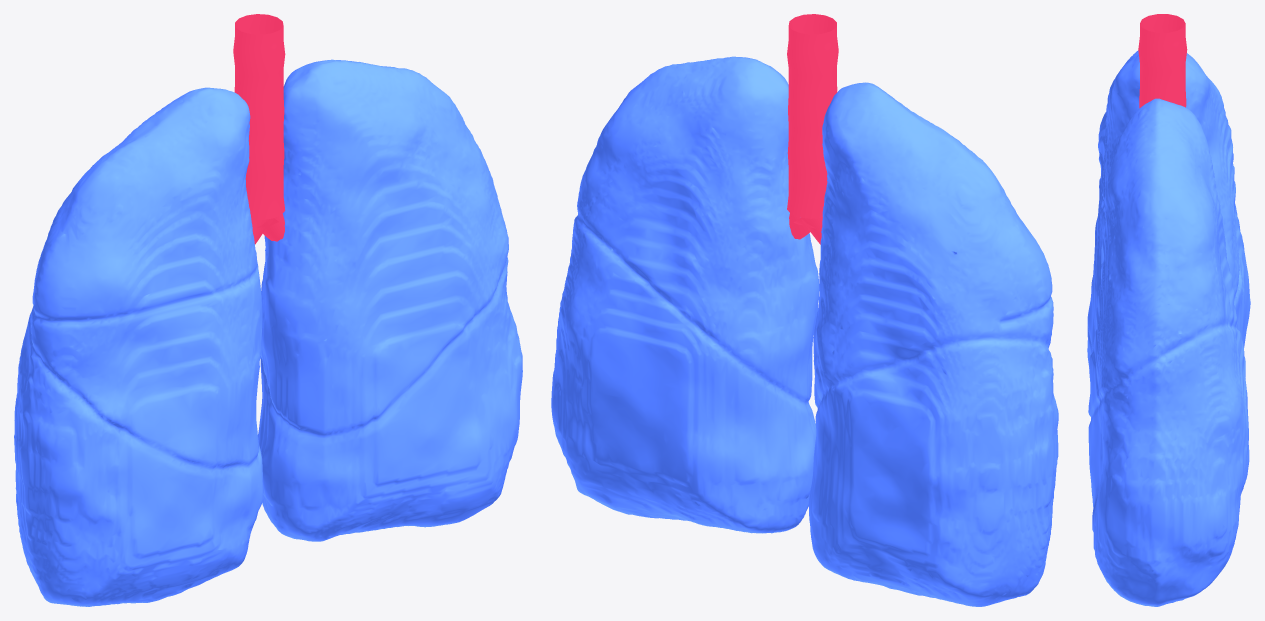
Rendered from souffle.glb.
3 views of the same model, side by side, from view 1: azimuth 30°, elevation 25°; view 2: azimuth 150°, elevation 25°; view 3: azimuth 270°, elevation 25° (orthographic). The views are drawn at different scales.
Visible parts, largest first — view 1: Verre, Vaisseaux; view 2: Verre, Vaisseaux; view 3: Verre, Vaisseaux.
Part boxes in pixels (bbox=[...]): Verre: bbox=[14, 59, 522, 606]; Vaisseaux: bbox=[233, 14, 285, 244]; Verre: bbox=[551, 56, 1058, 606]; Vaisseaux: bbox=[787, 14, 838, 244]; Verre: bbox=[1087, 50, 1250, 606]; Vaisseaux: bbox=[1138, 14, 1187, 108].
Bounding box in the file's own units: 3.44 × 3.64 × 1.07.
